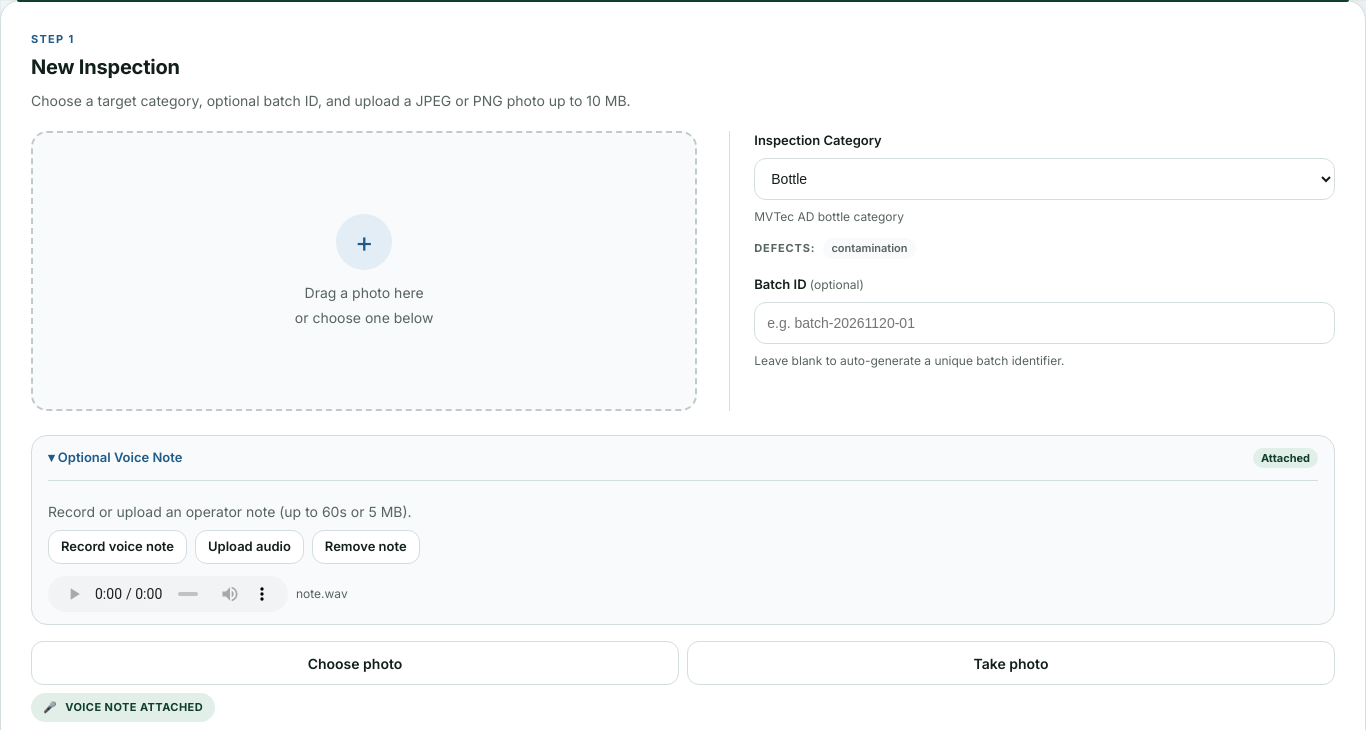
Test case: UploadPanel › attaches, previews and removes an uploaded voice note
Earlier steps of the test are not shown.
Expected: the text "note.wav" is shown, x1=296 y1=585 x2=348 y2=603
Expected: the text "🎤 Voice note attached" is shown, x1=31 y1=693 x2=215 y2=722
Click the button "Remove note" at point(366, 547), box x1=312 y1=530 x2=420 y2=564
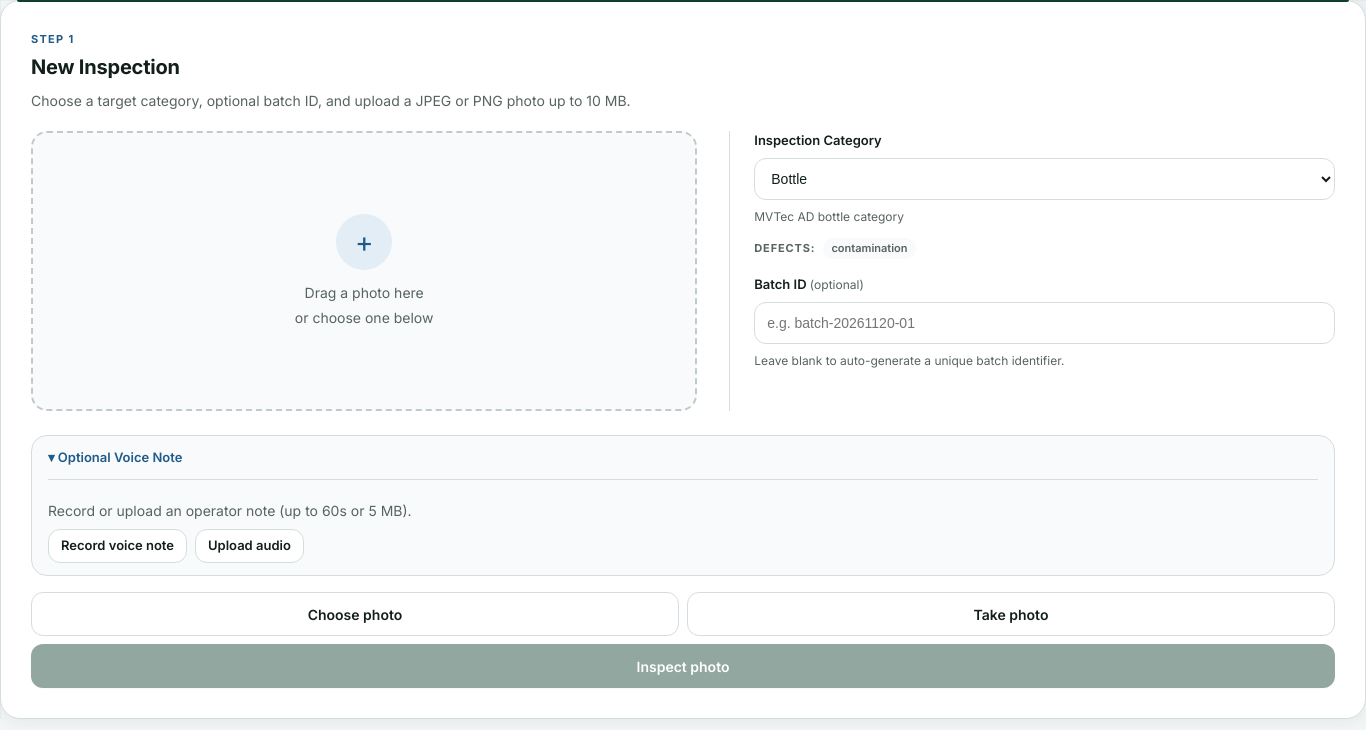
Expected: the text "note.wav" is gone
Expected: the button "Voice Note Attached" is gone
